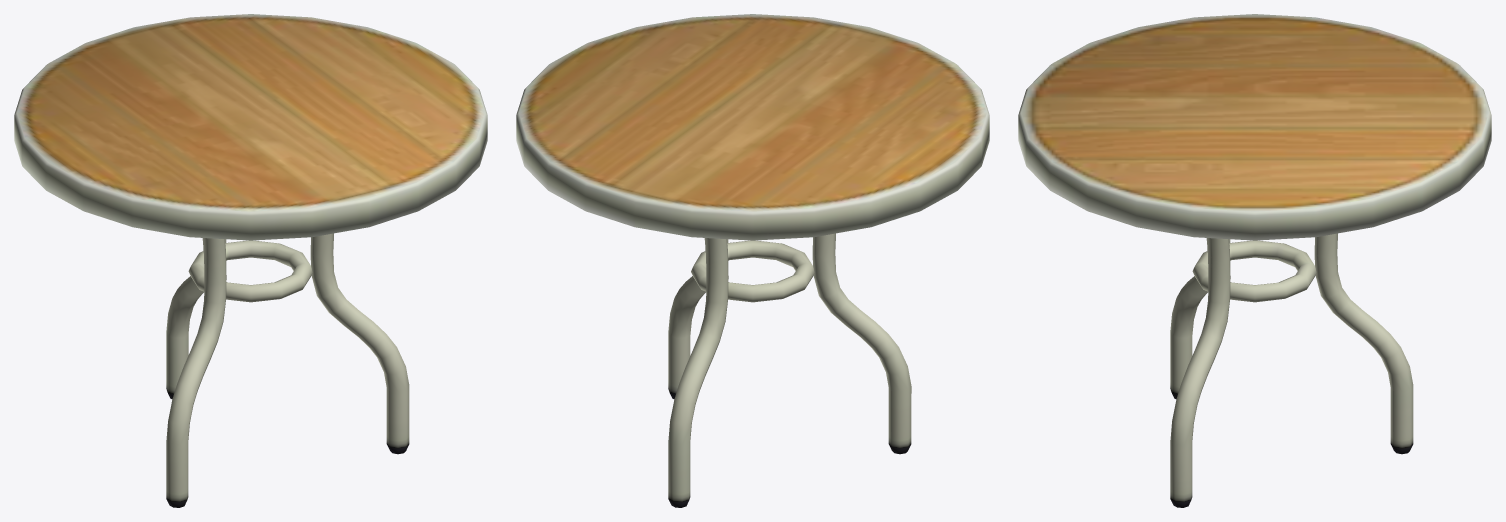
3 views of the same model, side by side, from view 1: azimuth 30°, elevation 25°; view 2: azimuth 150°, elevation 25°; view 3: azimuth 270°, elevation 25° (orthographic).
Bounding box in the file's own units: 9.2 × 7.3 × 9.2.
1 material, 1 textured.
